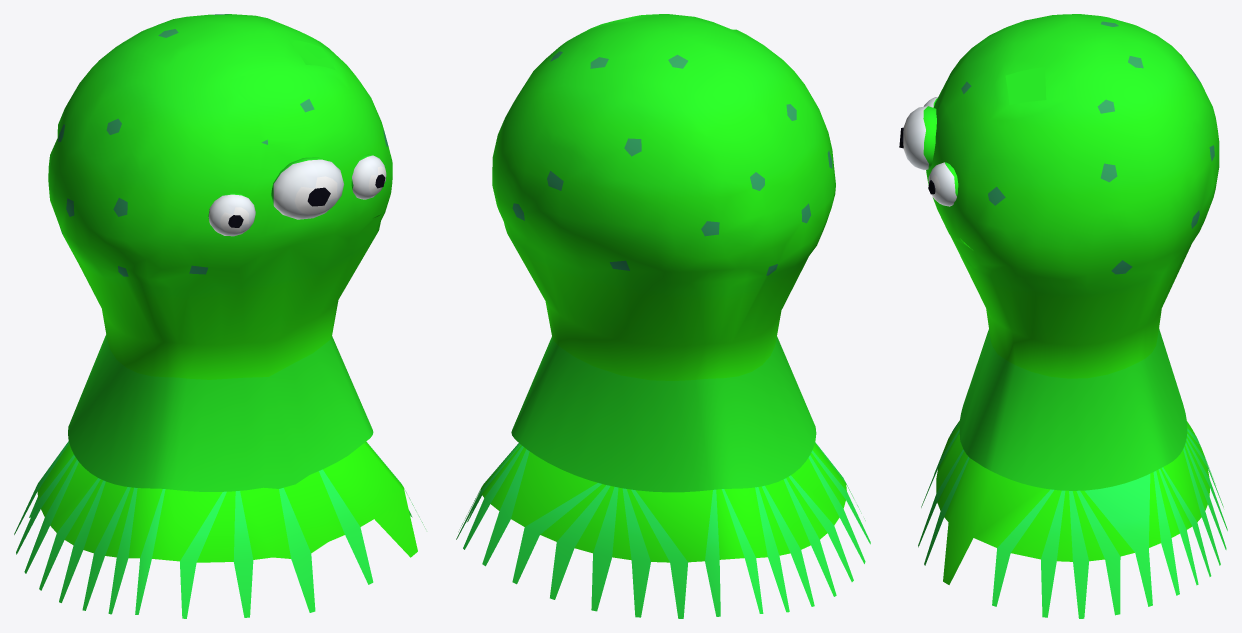
Rendered from Bacteria5.glb.
3 views of the same model, side by side, from view 1: azimuth 30°, elevation 25°; view 2: azimuth 150°, elevation 25°; view 3: azimuth 270°, elevation 25° (orthographic). The views are drawn at different scales.
Visible parts, largest first — view 1: Bacteria5, CorpoSuperior, OlhoC, OlhoE, OlhoD; view 2: Bacteria5, CorpoSuperior; view 3: Bacteria5, CorpoSuperior, OlhoC, OlhoD.
Boxes of the visible parts, bbox=[...] form: Bacteria5: bbox=[48, 14, 392, 491]; CorpoSuperior: bbox=[14, 441, 425, 618]; OlhoC: bbox=[271, 157, 343, 219]; OlhoE: bbox=[208, 193, 255, 236]; OlhoD: bbox=[351, 154, 386, 199]; Bacteria5: bbox=[492, 14, 835, 492]; CorpoSuperior: bbox=[456, 442, 870, 618]; Bacteria5: bbox=[926, 14, 1219, 490]; CorpoSuperior: bbox=[918, 420, 1227, 618]; OlhoC: bbox=[899, 106, 936, 169]; OlhoD: bbox=[928, 162, 958, 206].
Bounding box in the file's own units: 1.68 × 2.39 × 1.39.
Materials: 1 (1 with a texture image).
